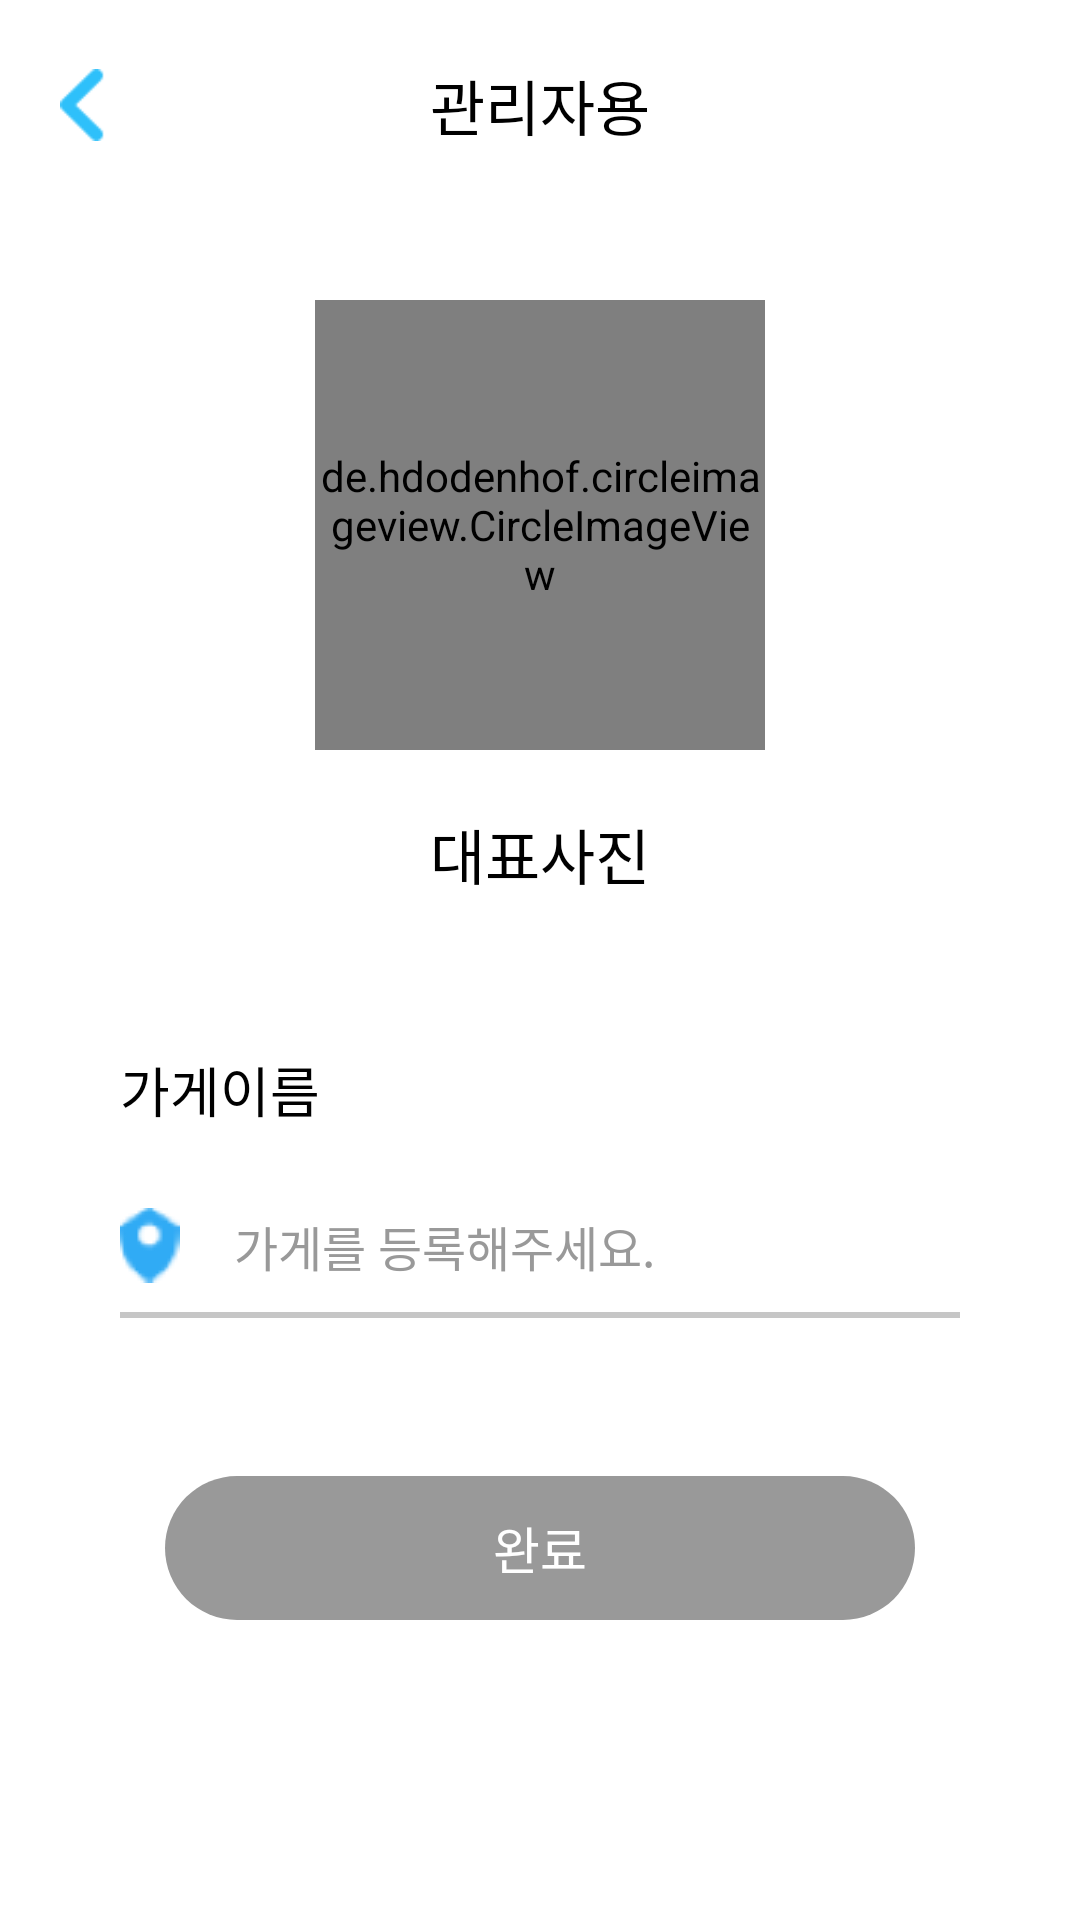

Icon click points for this 1080px×1920px phone screenshot, format (x=x, y=y):
back: (x=82, y=105)
